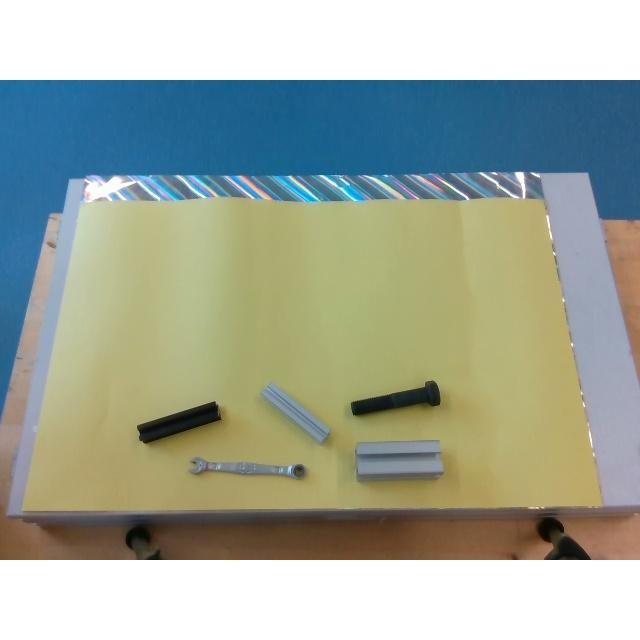F20_20_B: (136, 402, 220, 442)
F20_20_G: (262, 382, 331, 442)
M20_100: (352, 380, 441, 416)
S40_40_G: (355, 441, 443, 479)
Wrench: (190, 458, 306, 478)
